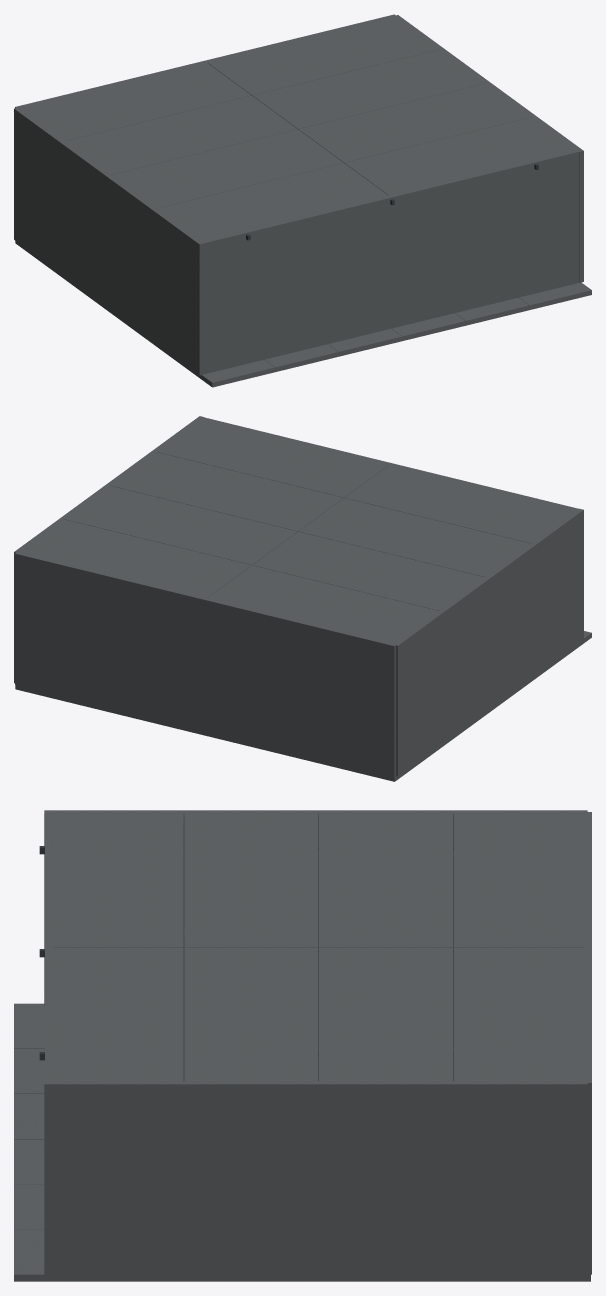
File: tier1.glb
3 views of the same model, one above another, from view 1: azimuth 30°, elevation 25°; view 2: azimuth 150°, elevation 25°; view 3: azimuth 270°, elevation 25° (orthographic). The views are drawn at different scales.
Parts seen in each view (by area): view 1: Tier1_Warm_architectural_concrete, Tier1_Original_mottled_concrete; view 2: Tier1_Warm_architectural_concrete, Tier1_Original_mottled_concrete; view 3: Tier1_Warm_architectural_concrete, Tier1_Original_mottled_concrete, Tier1_Graphite_structural_powdercoat.
Part boxes in pixels (x1,y1,x2,y2): Tier1_Warm_architectural_concrete: [14, 14, 583, 375]; Tier1_Original_mottled_concrete: [15, 241, 591, 387]; Tier1_Warm_architectural_concrete: [14, 416, 583, 777]; Tier1_Original_mottled_concrete: [15, 631, 591, 781]; Tier1_Warm_architectural_concrete: [44, 810, 591, 1276]; Tier1_Original_mottled_concrete: [14, 1003, 590, 1281]; Tier1_Graphite_structural_powdercoat: [39, 817, 453, 1081].
Size of the model in its own units: 20.24 by 6.85 by 18.03.
Materials: 18 (4 with a texture image).
